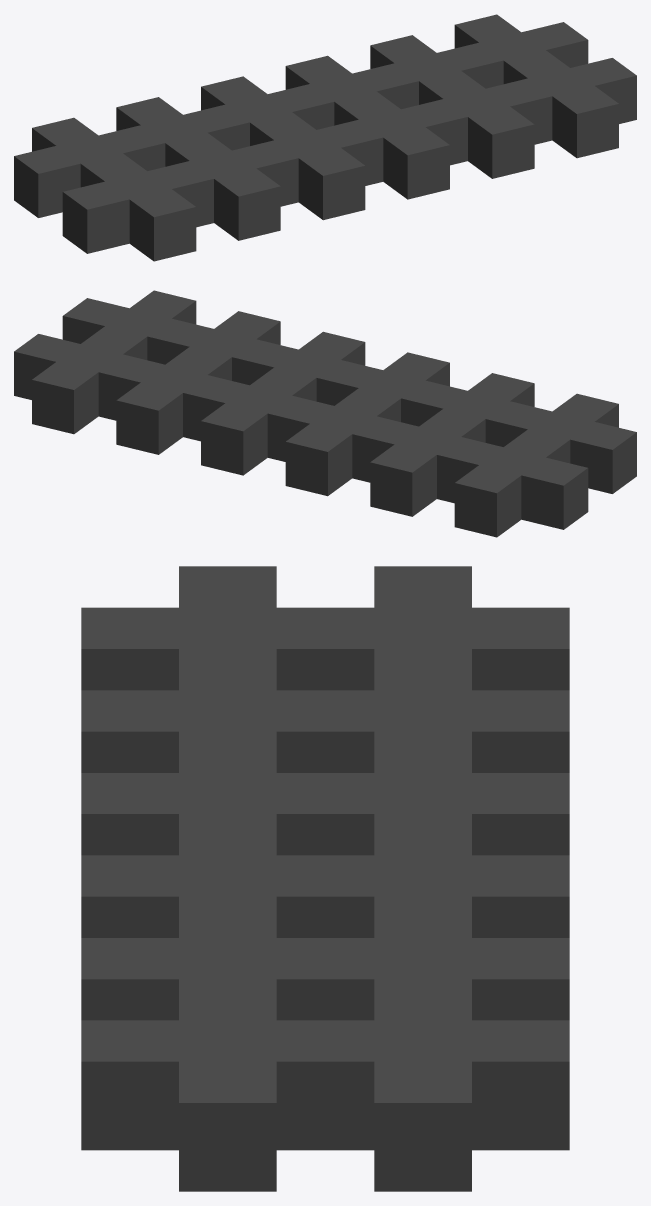
Rendered from Grill2.obj.
3 renders of one model, top to bottom at view 1: azimuth 30°, elevation 25°; view 2: azimuth 150°, elevation 25°; view 3: azimuth 270°, elevation 25°, orthographic. The views are drawn at different scales.
Parts seen in each view (by area): view 1: Grill2; view 2: Grill2; view 3: Grill2.
Boxes of the visible parts, <box> form: Grill2: <box>14,14,636,261</box>; Grill2: <box>14,290,636,537</box>; Grill2: <box>81,566,569,1191</box>.
Bounding box in the file's own units: 13 × 1 × 5.
1 material, 1 textured.
